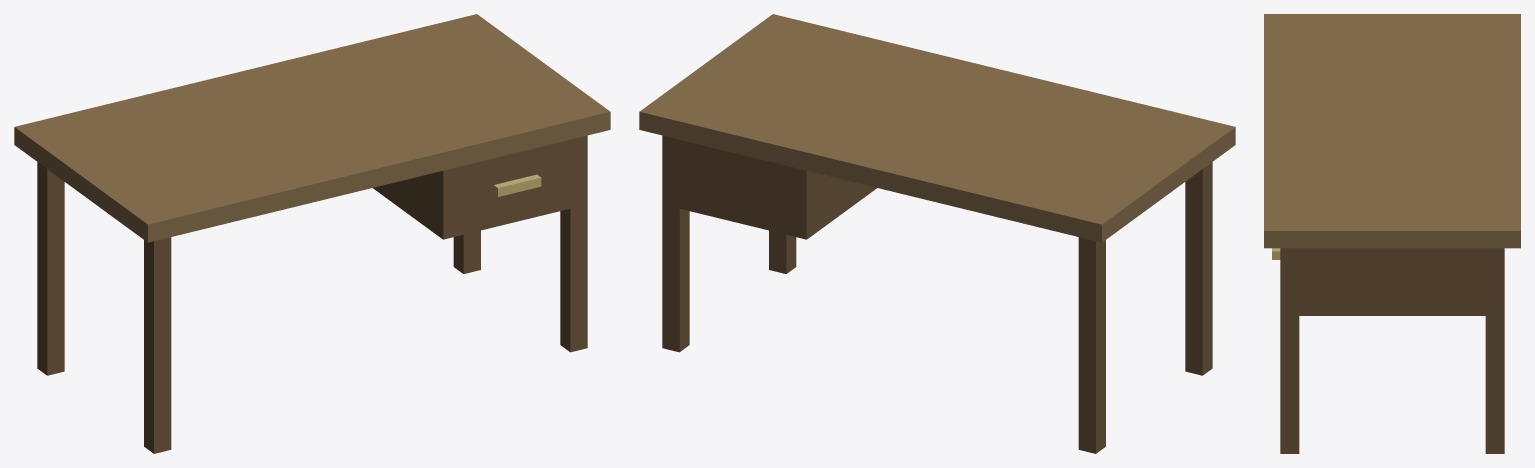
The model's file is desk.glb.
The picture shows the model from 3 angles, left to right: view 1: azimuth 30°, elevation 25°; view 2: azimuth 150°, elevation 25°; view 3: azimuth 270°, elevation 25°; orthographic projection. The views are drawn at different scales.
Size of the model in its own units: 1.6 by 0.79 by 0.8.
